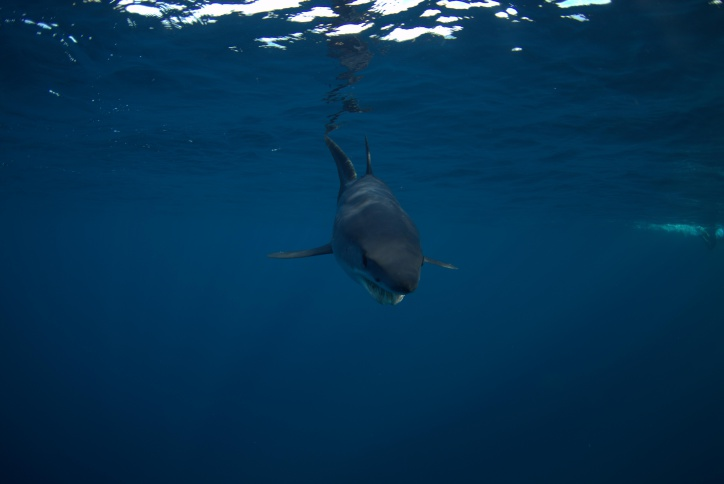Mako: (262, 134, 468, 313)
